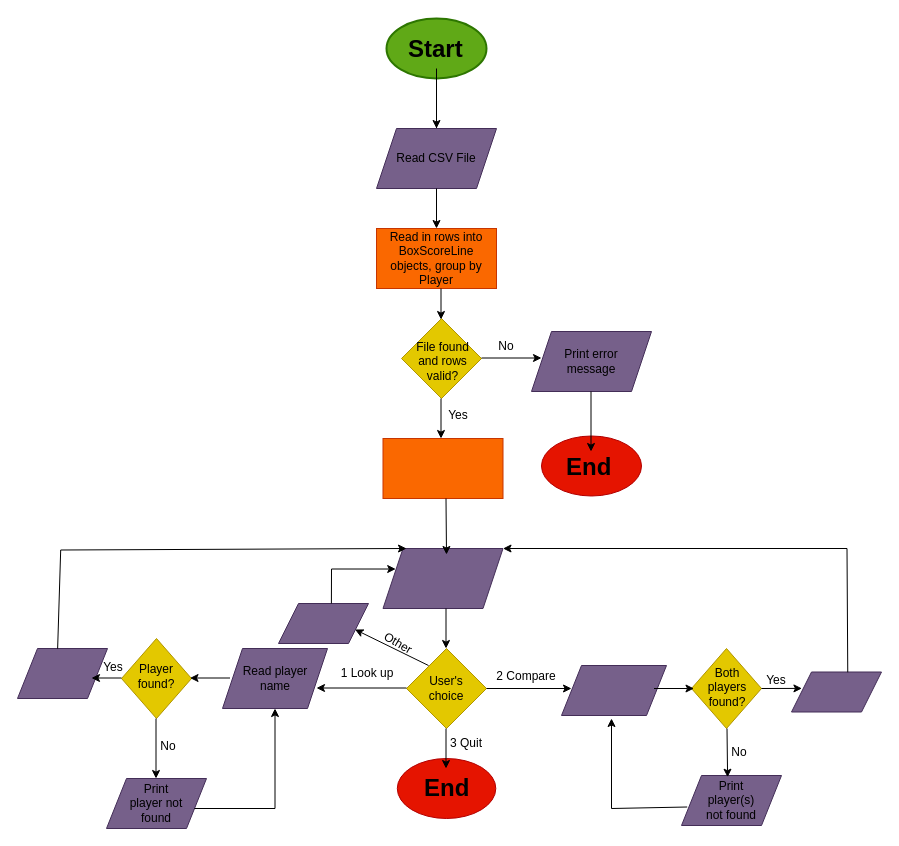
Image size: 899x846. Some labels were removed from this diagram. The shapes that lost their labels are listed below. From the top down, each one's centre as x and y in pixels, then its label:
the point at 442,468: Calculates formulas for the player stats
the point at 442,578: Display menu: 1 Look up, 2 Compare, 3 Quit
the point at 323,623: Print invalid choice
the point at 62,673: Print player's stats
the point at 613,690: Read two player names
the point at 836,691: Print comparison
